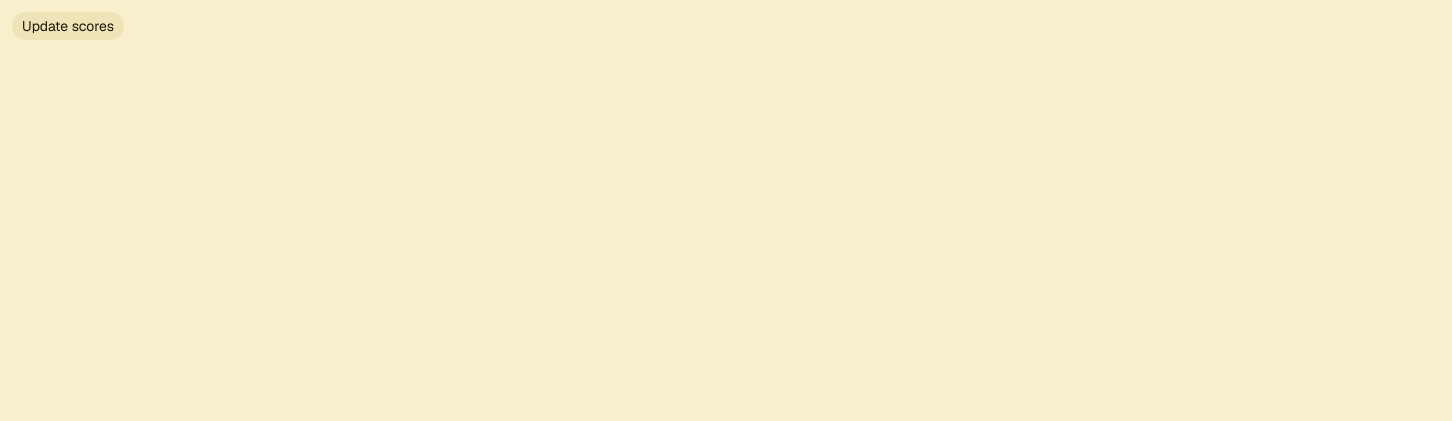
InlineRatingEditor (R51) › opens at 0 for a film scored 0
Click the button "Update scores" at (68, 26), box [12, 12, 124, 40]
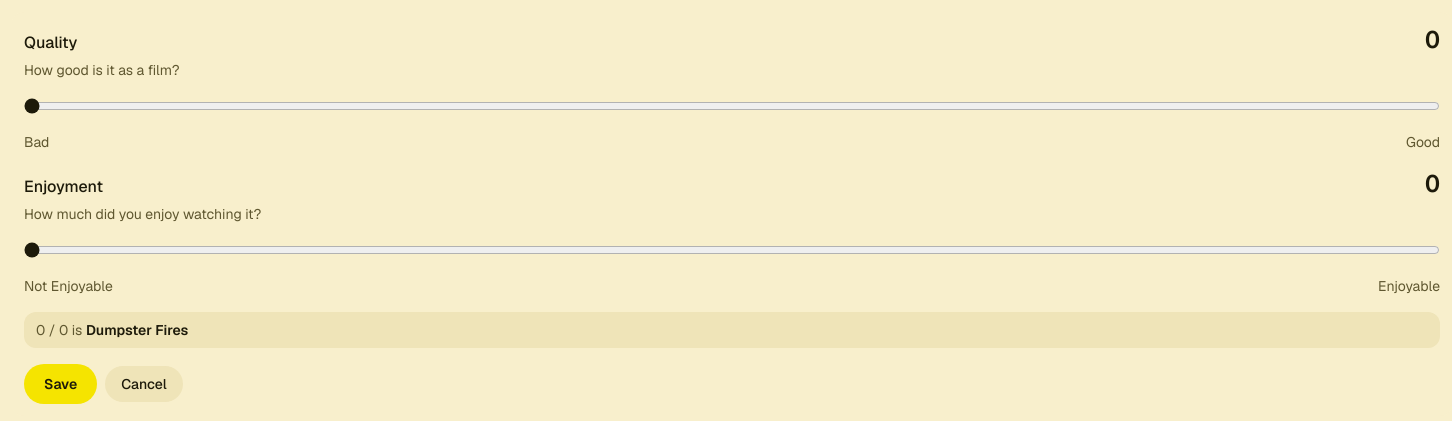
Now the slider labelled "Quality" holds "0", box [24, 84, 1440, 128]
Now the slider labelled "Enjoyment" holds "0", box [24, 228, 1440, 272]
